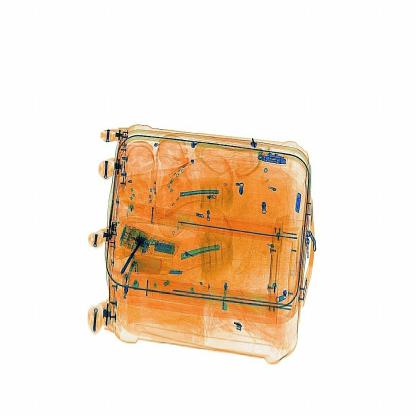knife: (118, 233, 145, 280)
